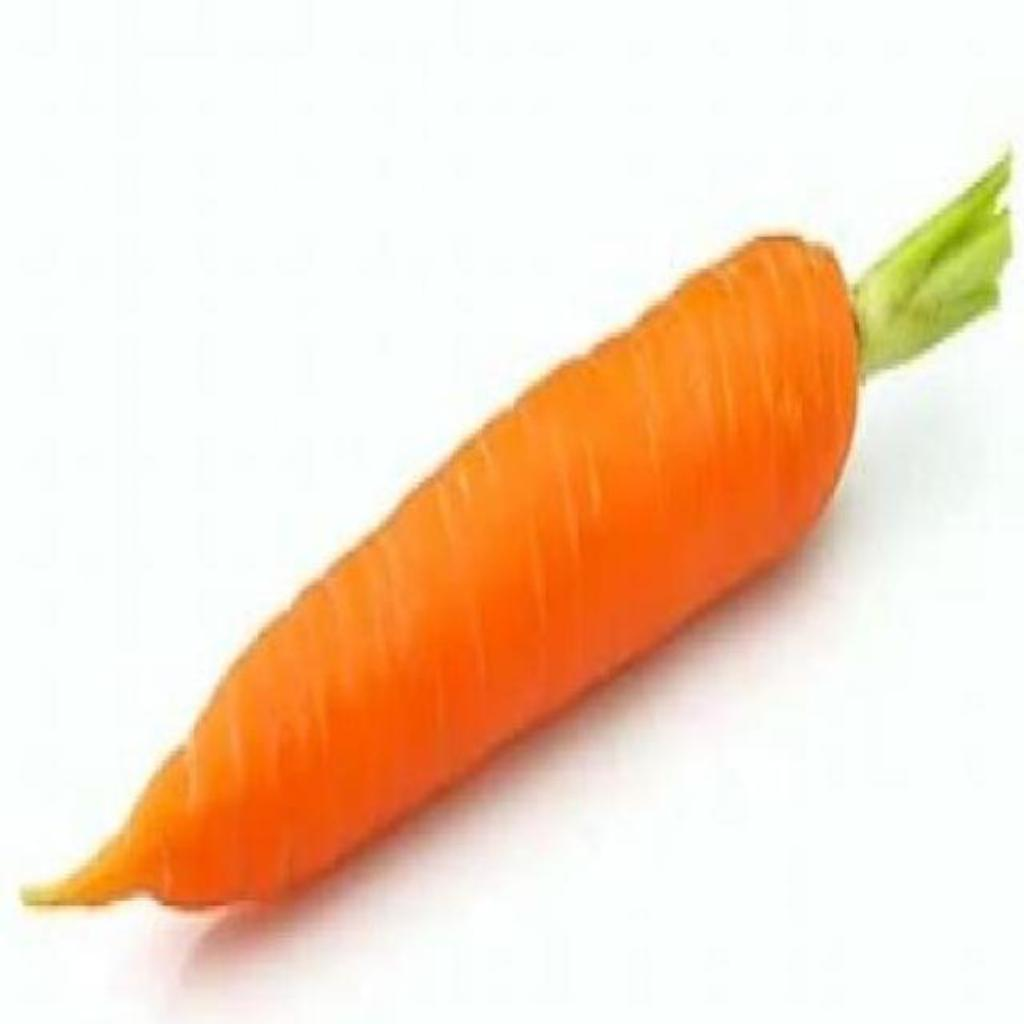carrot: (24, 154, 1012, 905)
